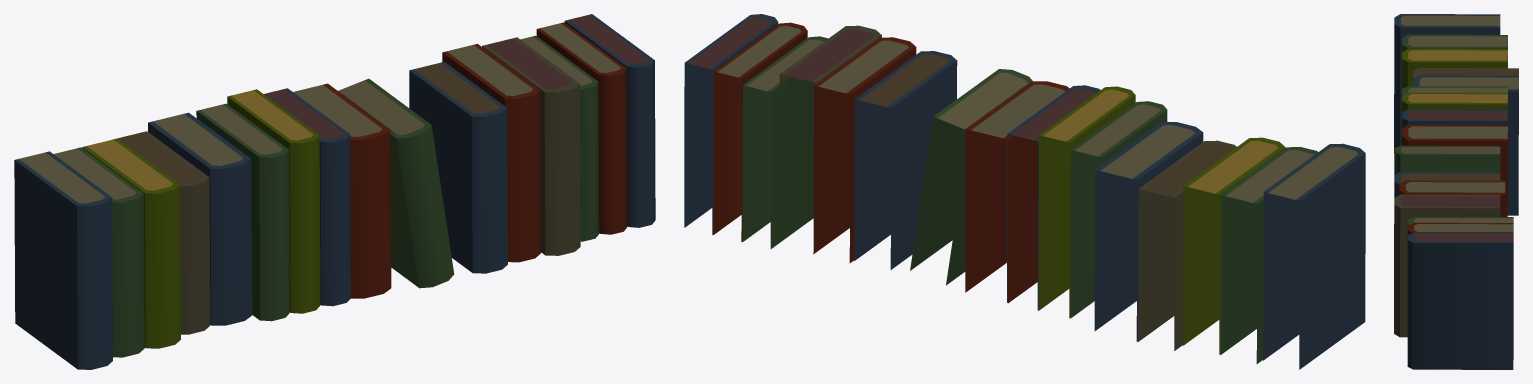
The model's file is extra_book_row.glb.
3 renders of one model, left to right at view 1: azimuth 30°, elevation 25°; view 2: azimuth 150°, elevation 25°; view 3: azimuth 270°, elevation 25°, orthographic. The views are drawn at different scales.
Parts seen in each view (by area): view 1: BookGroup_Medium_1; view 2: BookGroup_Medium_1; view 3: BookGroup_Medium_1.
Part boxes in pixels (bbox=[...]): BookGroup_Medium_1: bbox=[14, 14, 655, 369]; BookGroup_Medium_1: bbox=[684, 14, 1365, 369]; BookGroup_Medium_1: bbox=[1394, 14, 1518, 369].
Bounding box in the file's own units: 1.22 × 0.343 × 0.2846.
